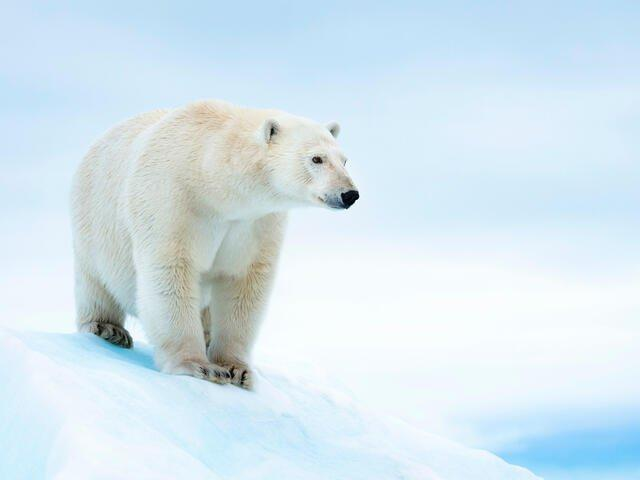bear: (56, 99, 364, 403)
